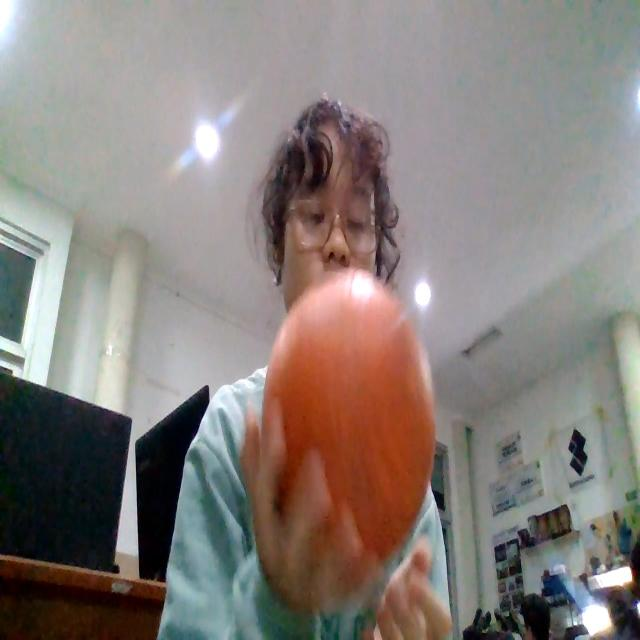ball: (261, 263, 427, 567)
